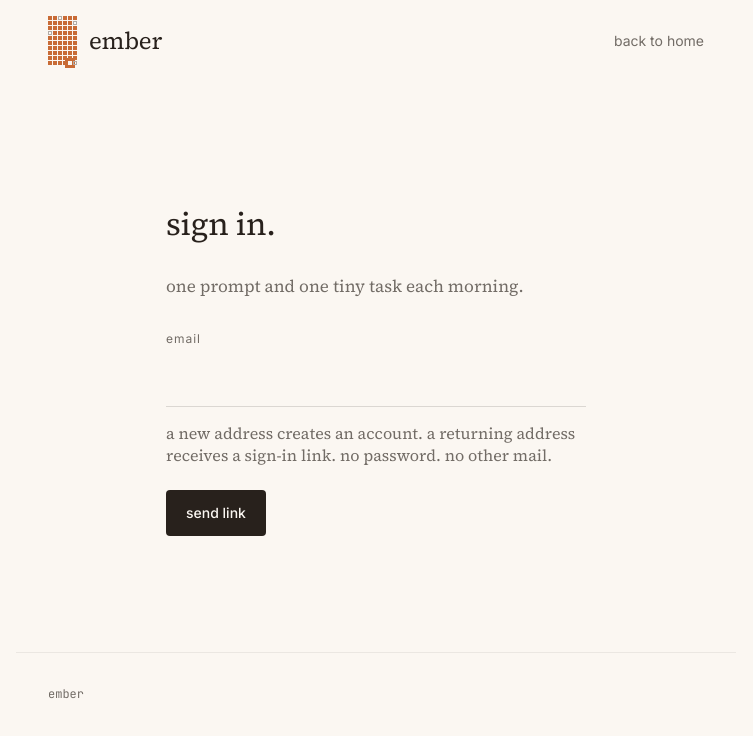
it: SigninPage — sent state › shows expiry notice in confirmation with singular definite register
Type "user@example.com" into the field labelled "email". click: (376, 382)
box: [166, 357, 586, 407]
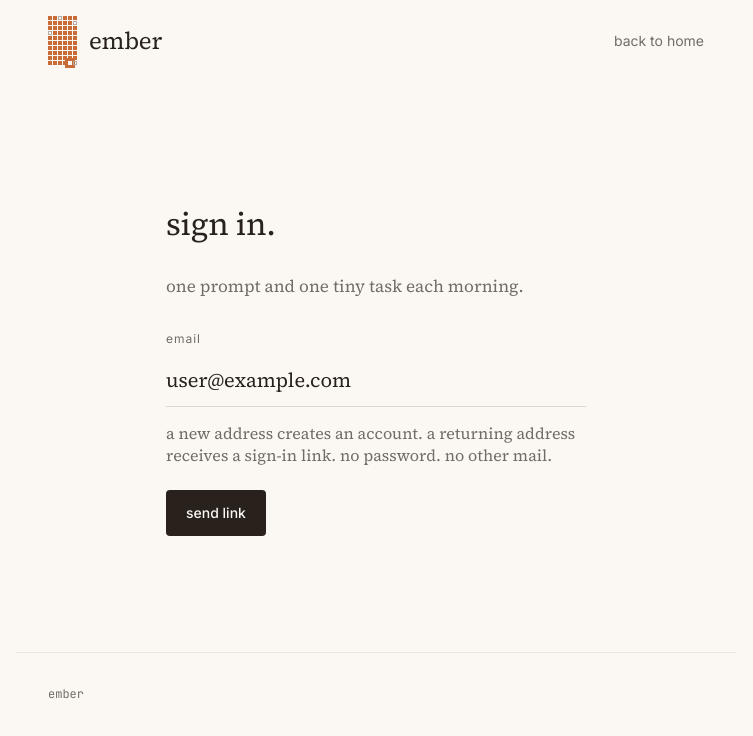
Submit the form, box [166, 330, 586, 536]
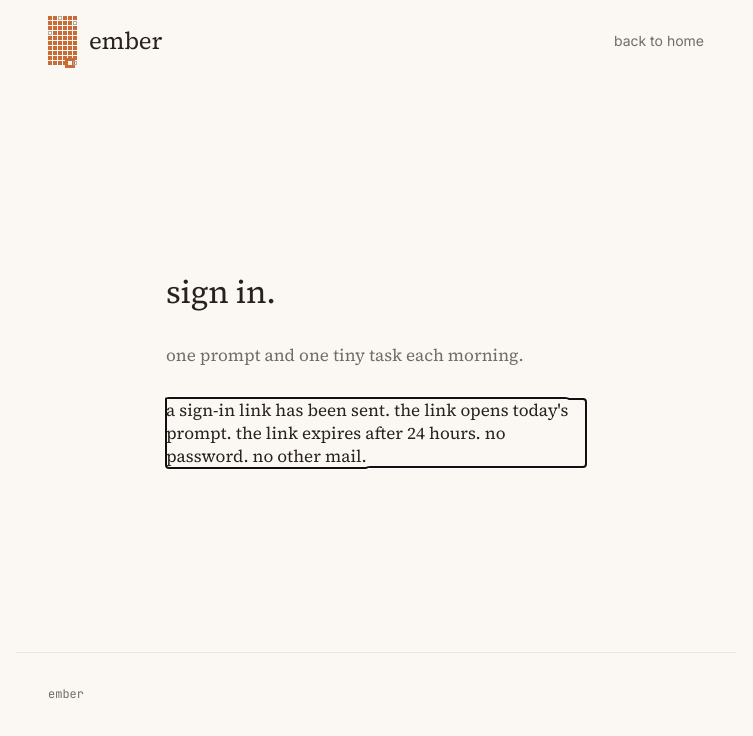
Expected: the footer does not show "expires after 24 hours", [16, 652, 736, 735]
Now the text with test id "signin-confirmation" is shown, box [166, 399, 586, 467]
Now the text with test id "signin-confirmation" shows "the link expires after 24 hours.", box [166, 398, 568, 468]
